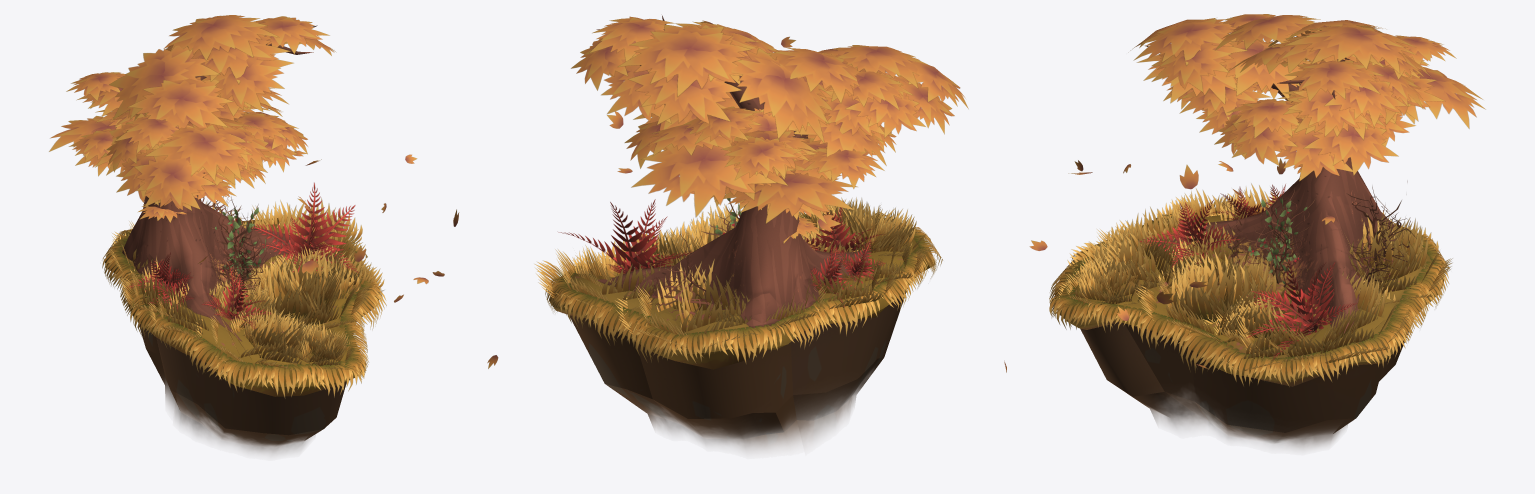
3 views of the same model, side by side, from view 1: azimuth 30°, elevation 25°; view 2: azimuth 150°, elevation 25°; view 3: azimuth 270°, elevation 25° (orthographic). The views are drawn at different scales.
Visible parts, largest first — view 1: Leaf Bundle Model015_Material #133_0, Mound, Tree Model; view 2: Leaf Bundle Model015_Material #133_0, Mound, Tree Model; view 3: Leaf Bundle Model015_Material #133_0, Mound, Tree Model.
Part boxes in pixels (left/top/right/bottom): Leaf Bundle Model015_Material #133_0: left=49, top=15, right=498, bottom=398; Mound: left=105, top=220, right=378, bottom=453; Tree Model: left=122, top=25, right=317, bottom=341; Leaf Bundle Model015_Material #133_0: left=534, top=16, right=968, bottom=364; Mound: left=550, top=216, right=935, bottom=449; Tree Model: left=596, top=15, right=875, bottom=327; Leaf Bundle Model015_Material #133_0: left=1004, top=14, right=1485, bottom=387; Mound: left=1054, top=210, right=1443, bottom=448; Tree Model: left=1145, top=45, right=1396, bottom=334.
Size of the model in its own units: 4.24 by 4.7 by 5.22.
3 materials, 3 textured.
